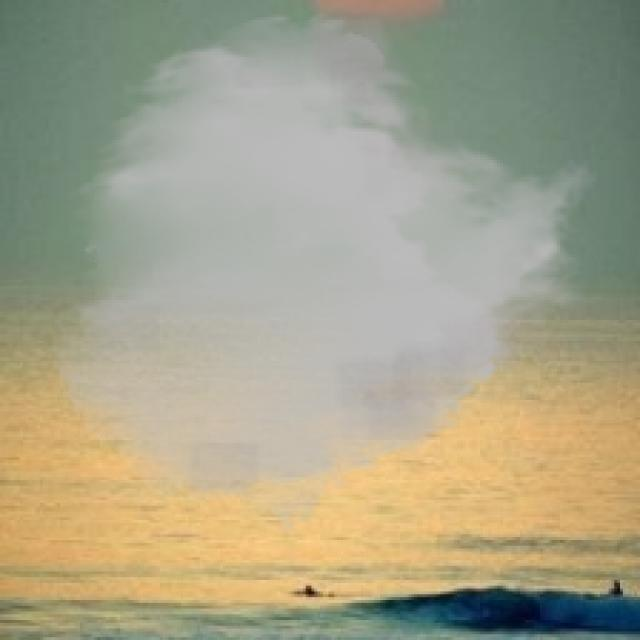smoke: (49, 9, 600, 534)
